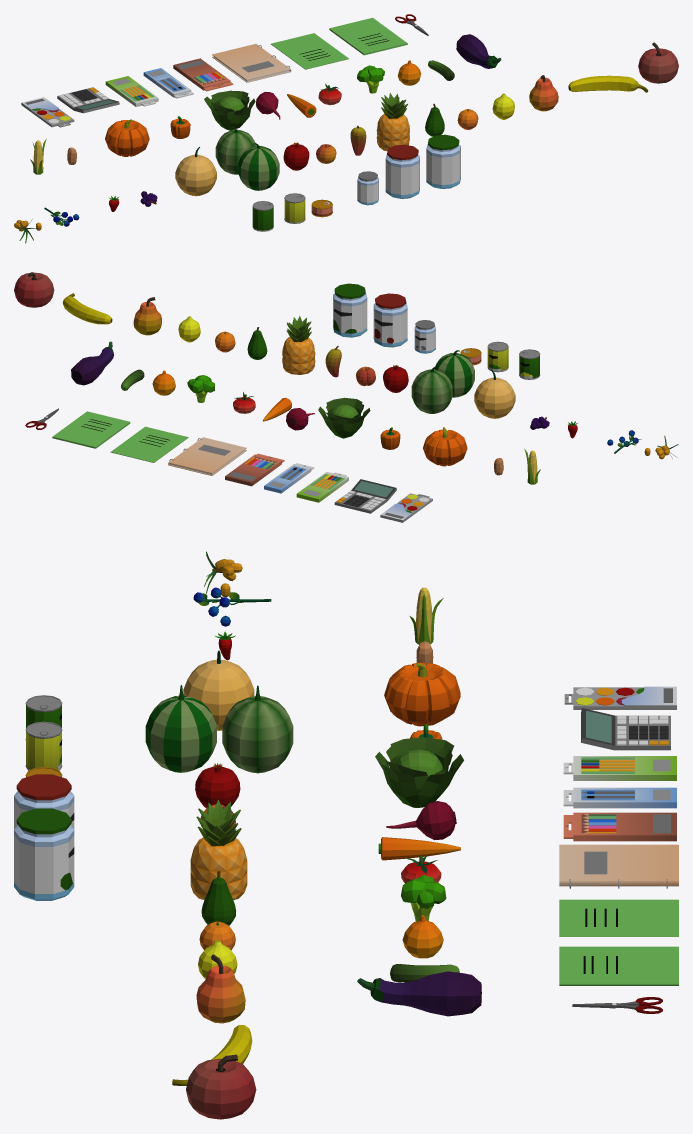
The model's file is prodi_opt.fbx.
3 views of the same model, one above another, from view 1: azimuth 30°, elevation 25°; view 2: azimuth 150°, elevation 25°; view 3: azimuth 270°, elevation 25° (orthographic). The views are drawn at different scales.
Visible parts, largest first — view 1: Cube.013, Circle.018, Circle.014, Cube.002, Cube.014, Sphere.004, Circle.010, Sphere.007, Cube, Circle.008, apple_wood.001, Sphere.008 (+21 smaller); view 2: Cube.013, Circle.014, Circle.018, Cube.002, Cube.014, Circle.010, Sphere.008, Cube, Sphere.007, Circle.008, Cube.009, Sphere.004 (+17 smaller); view 3: Circle.014, Cube.013, Cube.002, Cube.014, Sphere.008, Sphere.004, Cube, Circle.010, Circle.008, vegetables_Plastic.001, apple_wood.001, Cube.011 (+18 smaller).
Part boxes in pixels (x1,y1,x2,y2): Cube.013: (212,44,291,82); Circle.018: (385,144,419,198); Circle.014: (426,134,460,188); Cube.002: (329,17,407,55); Cube.014: (271,33,348,69); Sphere.004: (238,143,279,190); Circle.010: (376,93,409,151); Sphere.007: (175,147,216,196); Cube: (204,90,255,130); Circle.008: (105,119,149,156); apple_wood.001: (638,42,678,83); Sphere.008: (215,127,256,174); Cube.013: (168,437,246,475); Circle.014: (333,283,367,337); Circle.018: (373,293,407,347); Cube.002: (52,411,130,448); Cube.014: (110,426,188,462); Circle.010: (282,315,315,374); Sphere.008: (411,366,452,413); Cube: (318,397,370,438); Sphere.007: (474,370,515,418); Circle.008: (423,427,467,466); Cube.009: (334,479,396,513); Sphere.004: (434,350,474,397); Circle.014: (14,808,74,900); Cube.013: (559,844,678,888); Cube.002: (559,946,678,985); Cube.014: (559,899,678,936); Sphere.008: (222,685,293,773); Sphere.004: (145,685,216,772); Cube: (375,737,463,807); Circle.010: (190,799,247,900); Circle.008: (384,662,460,726); vegetables_Plastic.001: (357,971,481,1016); apple_wood.001: (186,1054,256,1119); Cube.011: (563,812,676,841).
Bounding box in the file's own units: 572 × 43.94 × 290.
